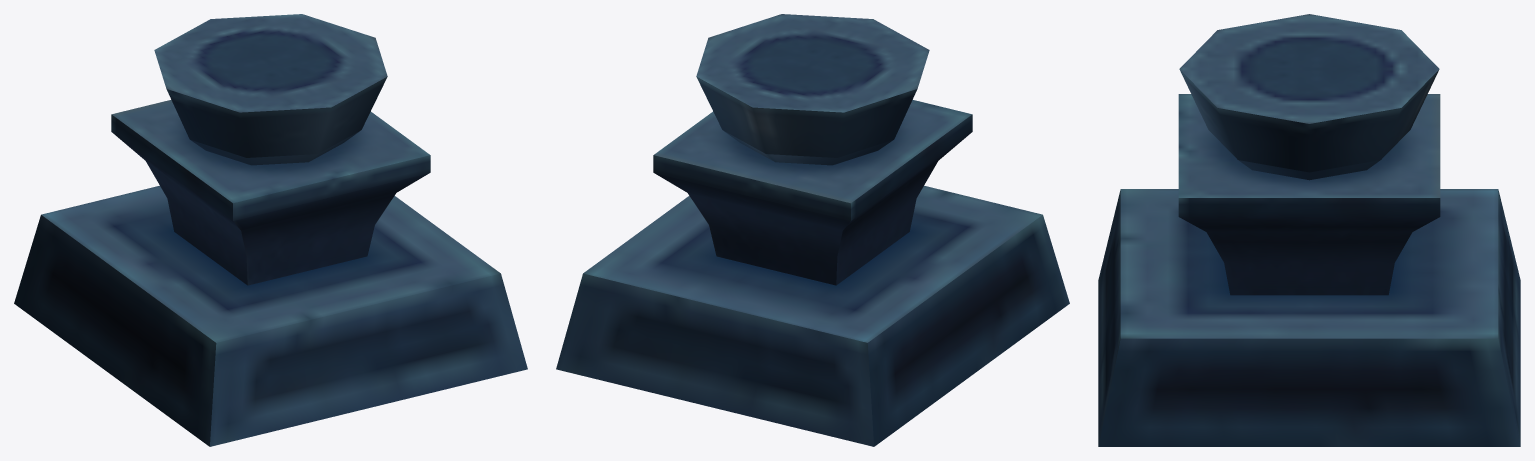
Rendered from guchengqishituan_wujian_06.FBX.
3 views of the same model, side by side, from view 1: azimuth 30°, elevation 25°; view 2: azimuth 150°, elevation 25°; view 3: azimuth 270°, elevation 25° (orthographic). The views are drawn at different scales.
Visible parts, largest first — view 1: guchengqishituan_wujian_06; view 2: guchengqishituan_wujian_06; view 3: guchengqishituan_wujian_06.
Part boxes in pixels (<box>): guchengqishituan_wujian_06: <box>14,14,527,446</box>; guchengqishituan_wujian_06: <box>556,14,1069,446</box>; guchengqishituan_wujian_06: <box>1098,14,1520,446</box>.
Size of the model in its own units: 149 by 122 by 159.
